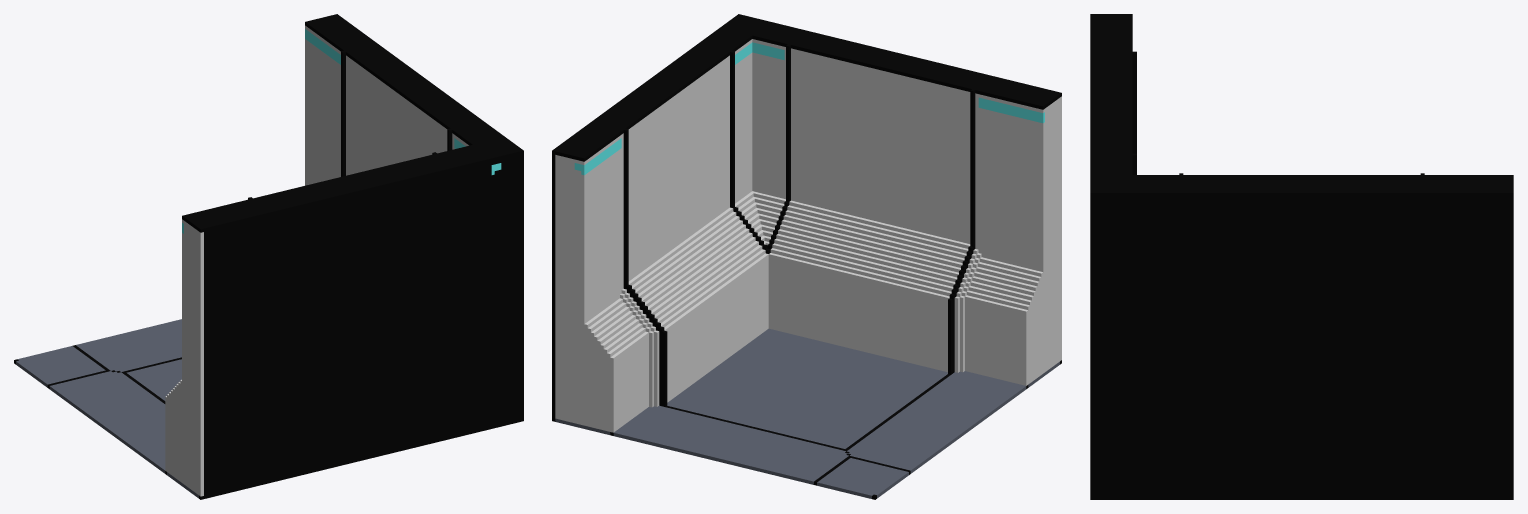
Rendered from TestBlocks-5.obj.
3 views of the same model, side by side, from view 1: azimuth 30°, elevation 25°; view 2: azimuth 150°, elevation 25°; view 3: azimuth 270°, elevation 25° (orthographic). The views are drawn at different scales.
Bounding box in the file's own units: 10 × 8 × 10.
Materials: 1 (1 with a texture image).
